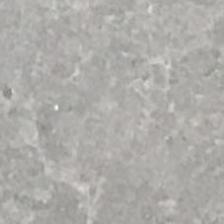Non_Crack: (15, 0, 218, 224)
